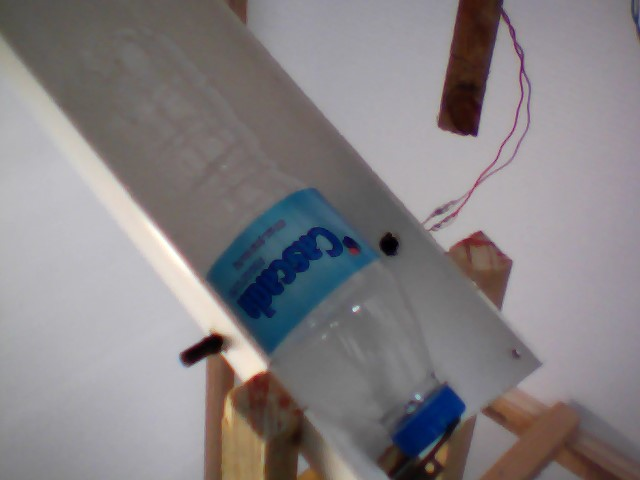plastico: (45, 22, 471, 459)
